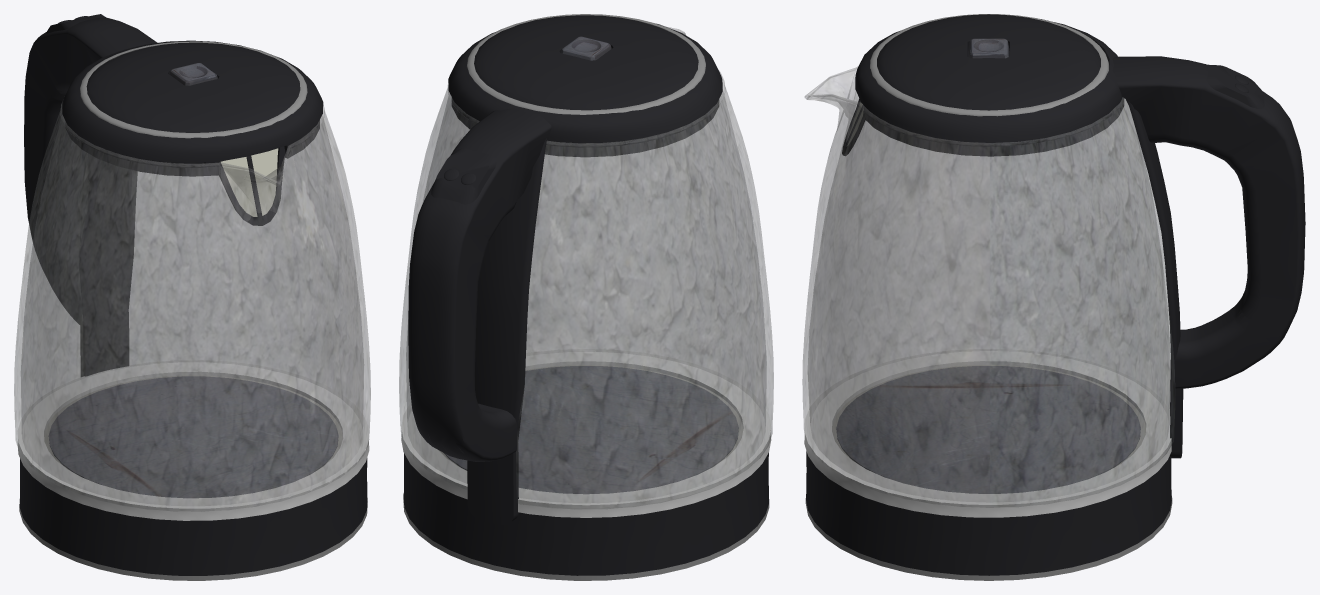
The model's file is electronic_kettle.glb.
3 renders of one model, left to right at view 1: azimuth 30°, elevation 25°; view 2: azimuth 150°, elevation 25°; view 3: azimuth 270°, elevation 25°, orthographic. The views are drawn at different scales.
Parts seen in each view (by area): view 1: cap_7; view 2: cap_7; view 3: cap_7.
Boxes of the visible parts, x1,y1,x2,y2 form: cap_7: [14, 14, 370, 580]; cap_7: [399, 14, 773, 580]; cap_7: [802, 14, 1305, 580].
Bounding box in the file's own units: 2.67 × 3.59 × 3.58.
7 materials, 2 textured.
